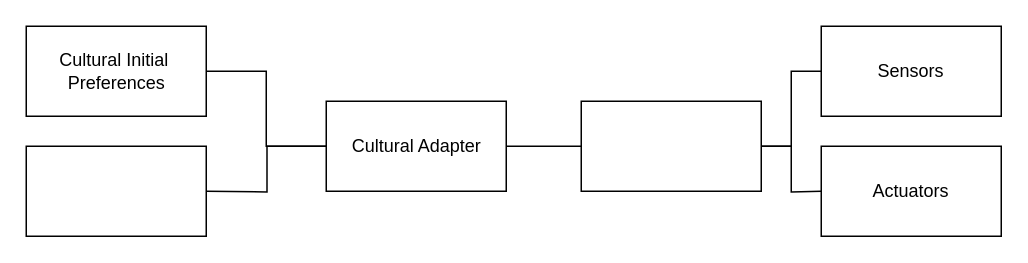
The diagram is 1028 pixels wide and 263 high, and some of its shapes have lost their labels. The centre of each missing label's shape, as x and y in pixels:
"Cognitive Architecture" goes at pixel 670 145.
"User Preferences" goes at pixel 115 190.
